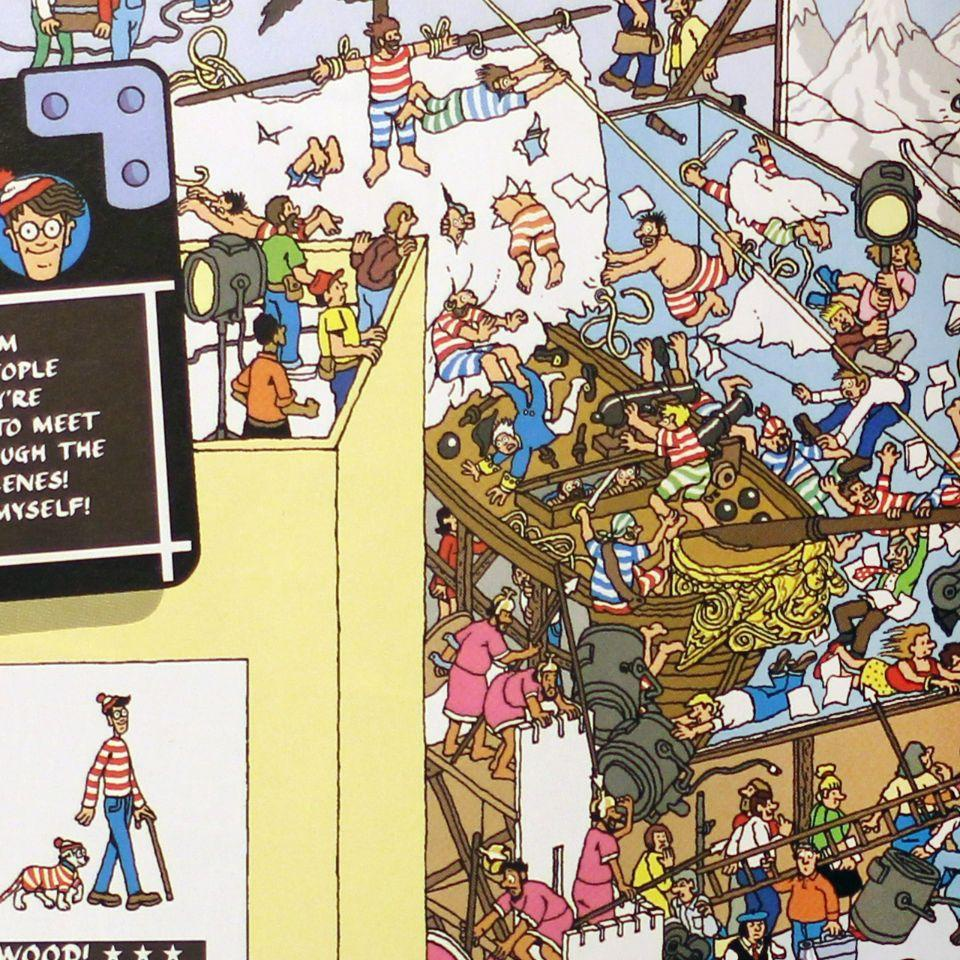waldo: (76, 693, 174, 909), (0, 169, 87, 284)
